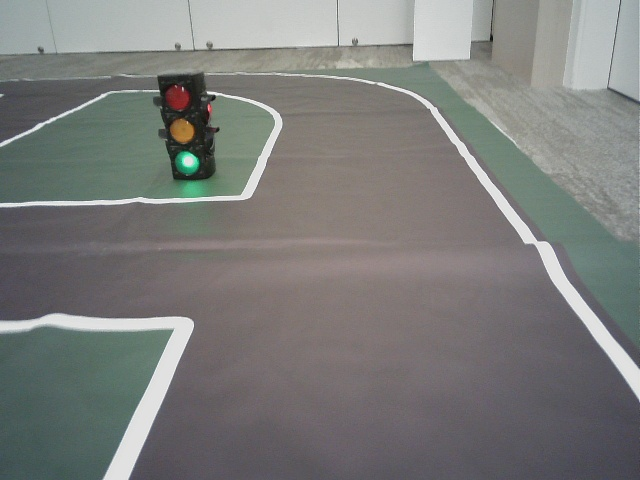green: (160, 79, 203, 175)
